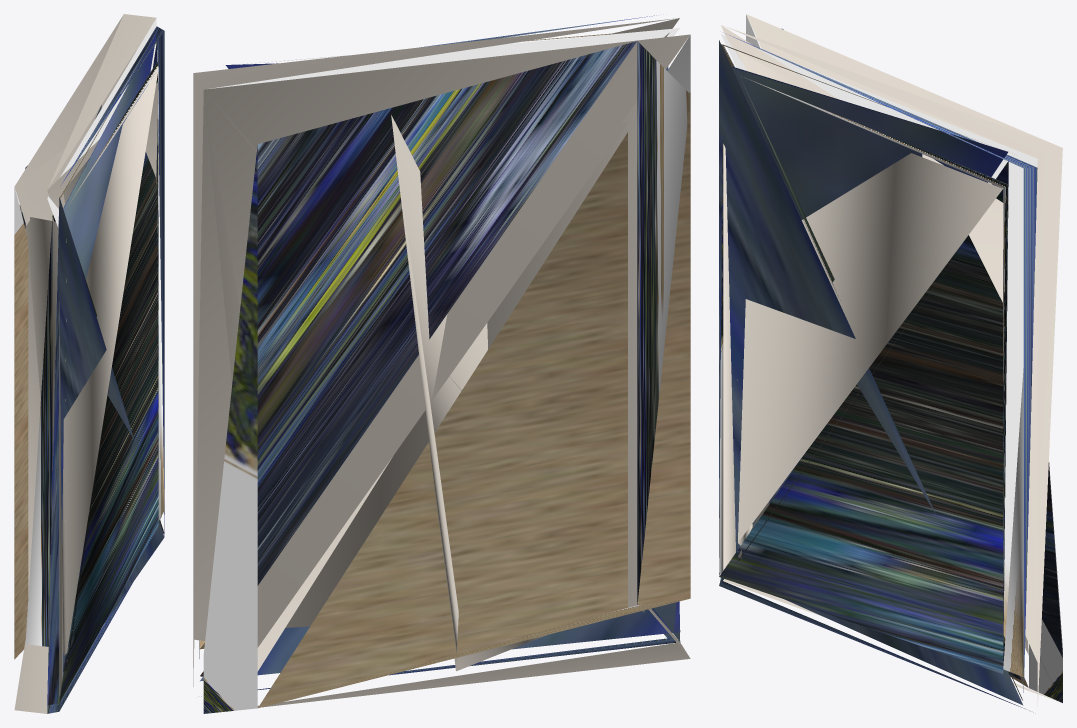
3 views of the same model, side by side, from view 1: azimuth 30°, elevation 25°; view 2: azimuth 150°, elevation 25°; view 3: azimuth 270°, elevation 25° (orthographic). The views are drawn at different scales.
Visible parts, largest first — view 1: nit_estelada_0; view 2: nit_estelada_0; view 3: nit_estelada_0.
Part boxes in pixels (x1,y1,x2,y2): nit_estelada_0: (14, 14, 164, 713); nit_estelada_0: (193, 15, 690, 713); nit_estelada_0: (719, 14, 1062, 712).
Size of the model in its own units: 3.88 by 6.91 by 3.88.
